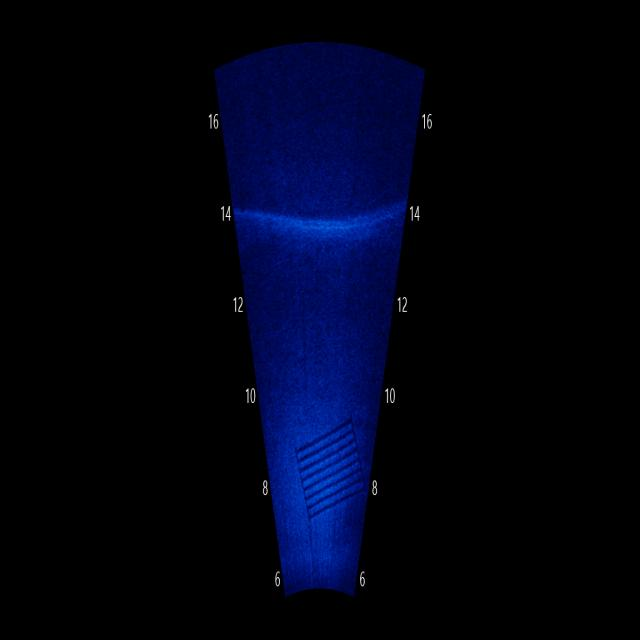square: (285, 411, 367, 526)
